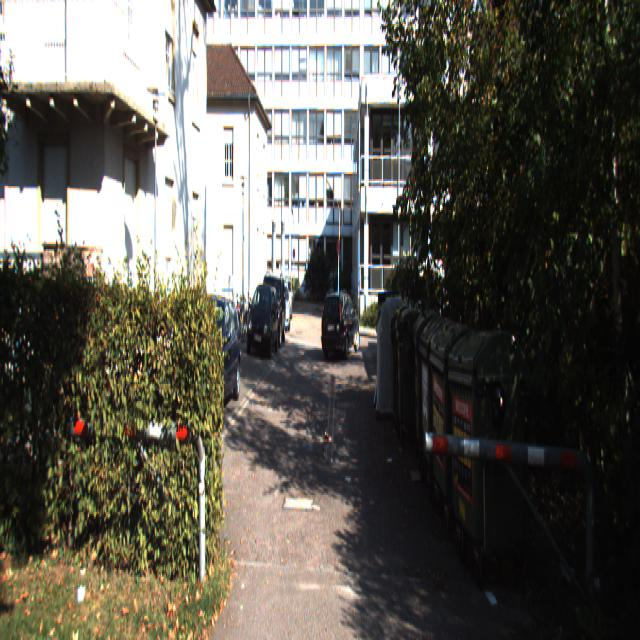Car: (176, 286, 241, 419), (320, 288, 361, 359), (246, 284, 279, 359), (258, 274, 287, 352), (273, 282, 291, 330)
